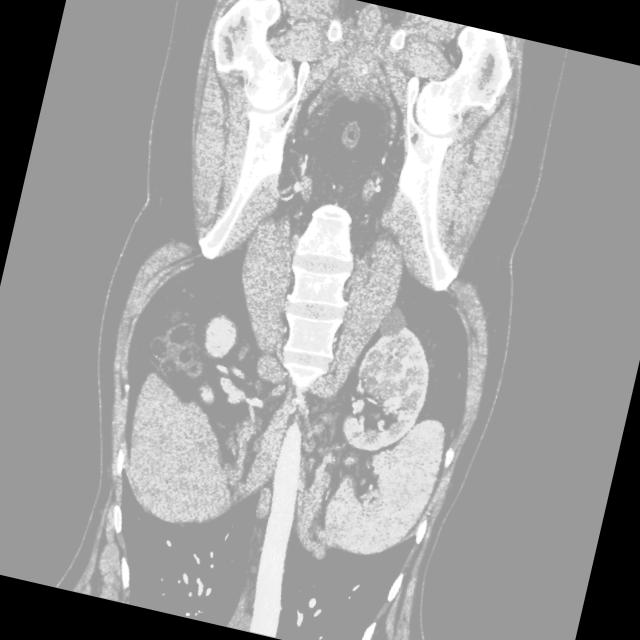TUMOR: (71, 200, 578, 600)
